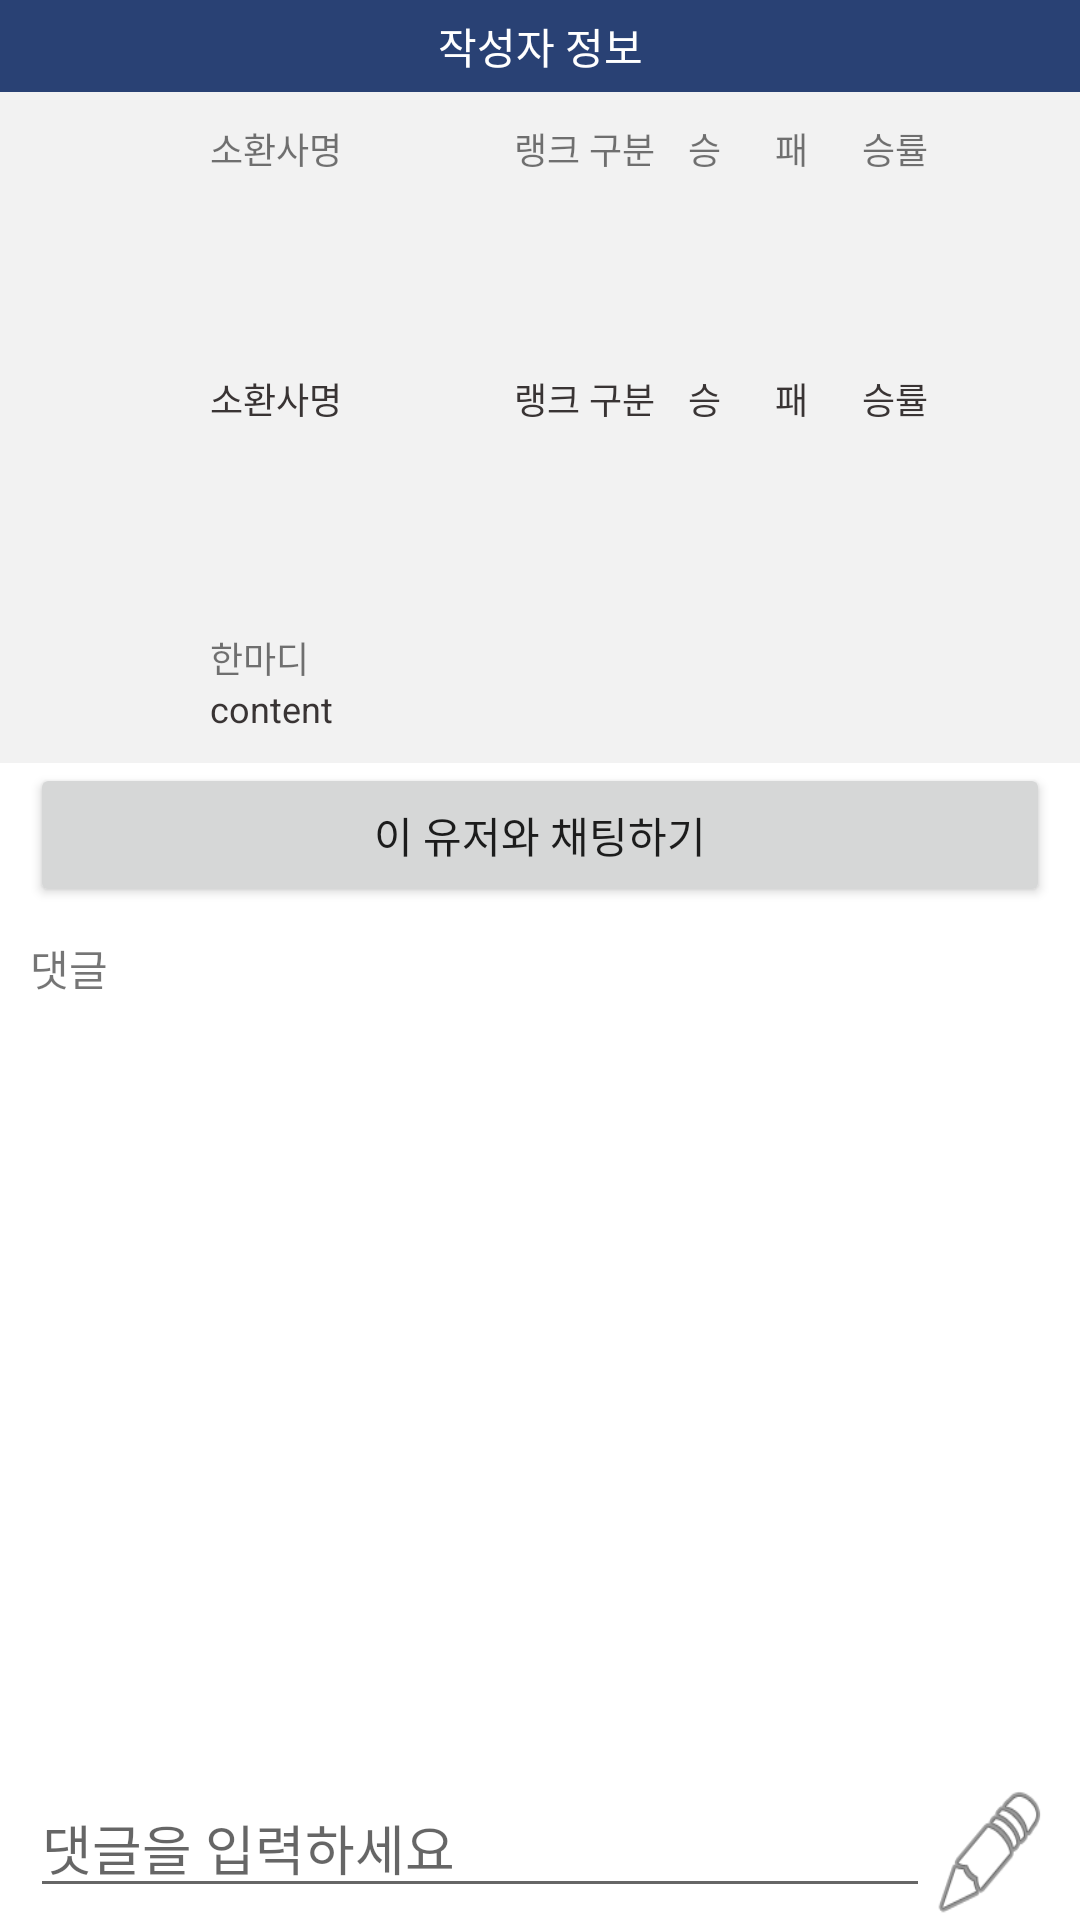

Screen size 1080×1920. Icon name, then its center in pixels as [x,y]:
edit: [989,1852]
